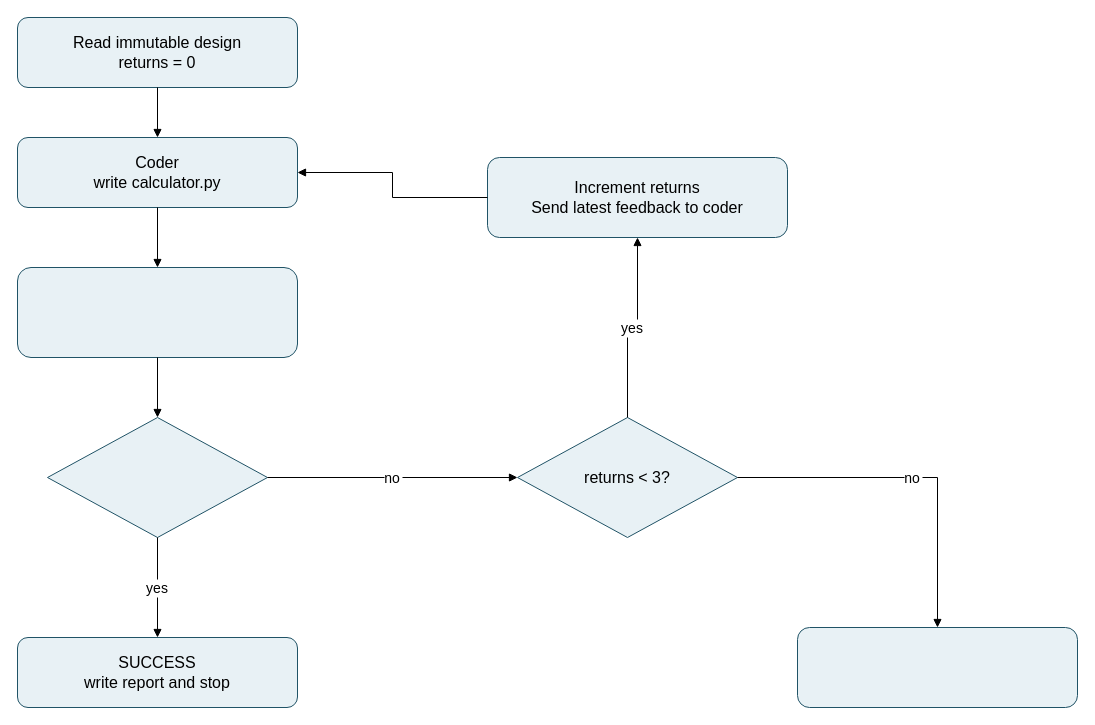
The diagram is 1095 pixels wide and 725 high, and some of its shapes have lost their labels. Each missing label, with the box of its shape:
FAILURE write unresolved findings: (796, 626, 1078, 708)
Review accepts AND fresh checks pass?: (46, 416, 268, 538)
Reviewer / tester read code, write tests, run tests: (16, 266, 298, 358)
